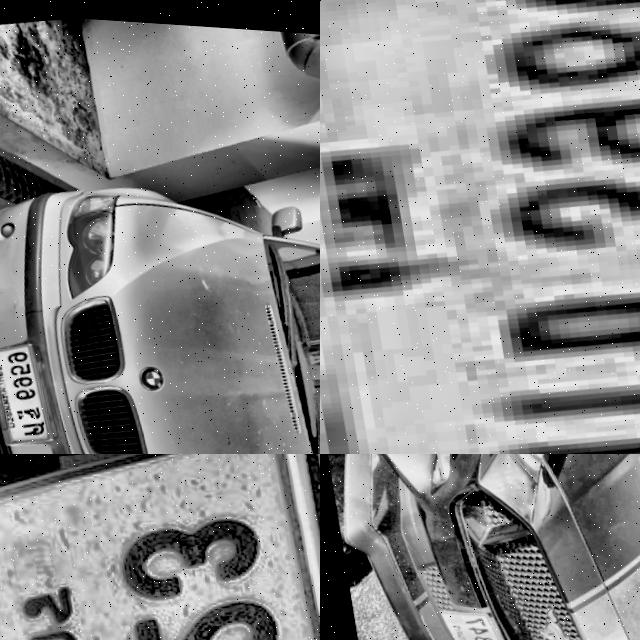license-plate: (320, 0, 640, 454), (0, 454, 320, 640), (0, 332, 55, 447), (433, 594, 536, 640)
